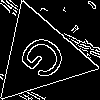G: (16, 31, 77, 90)
